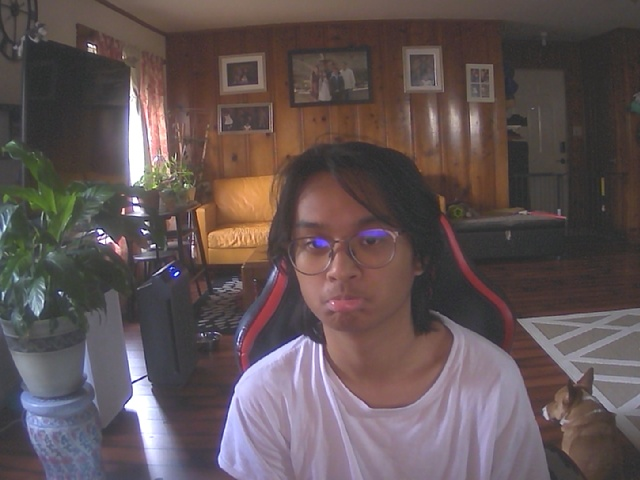sad: (280, 145, 430, 335)
